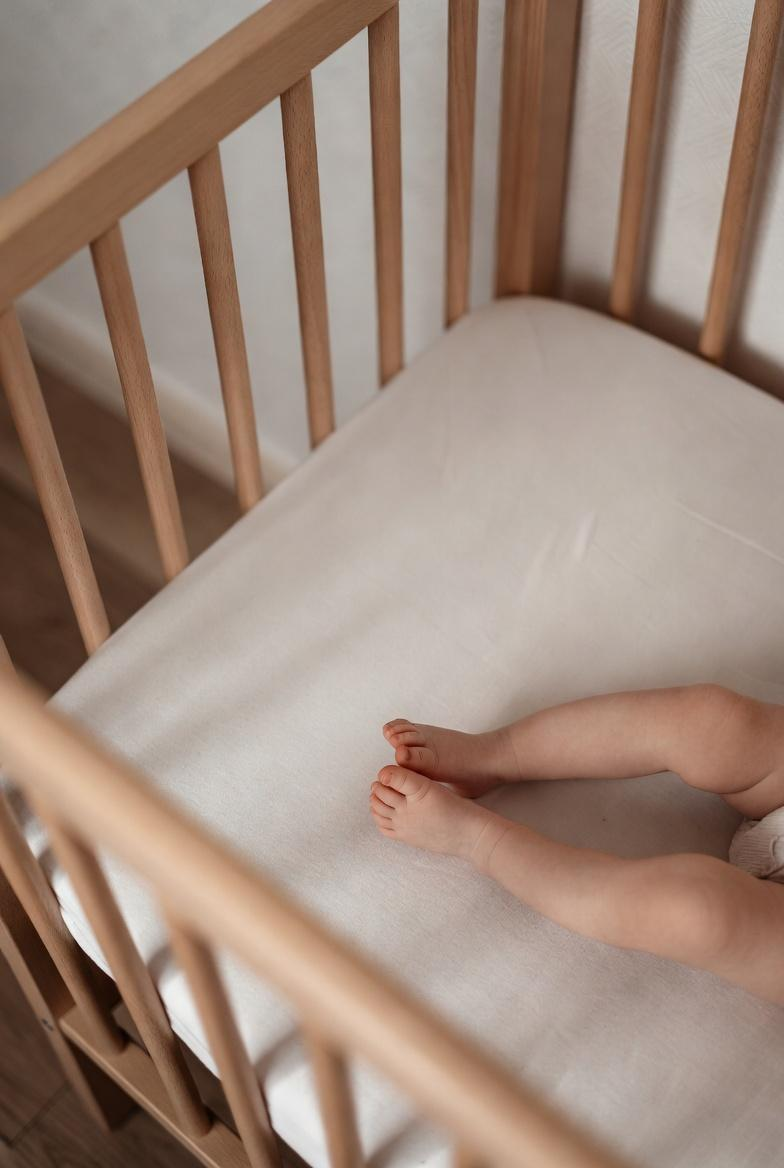baby: (368, 588, 784, 1008)
crib: (0, 0, 783, 1168)
